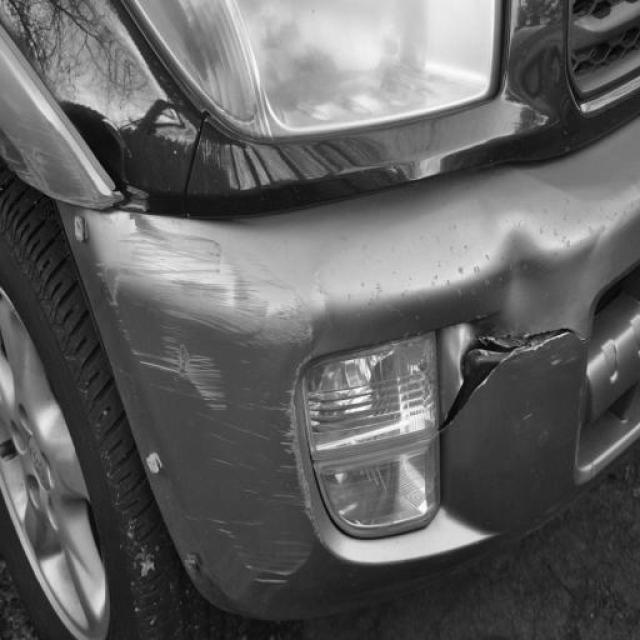dent: (476, 221, 566, 332)
scratch: (104, 212, 306, 344), (218, 353, 328, 582), (132, 343, 227, 411), (4, 143, 103, 208)
tear: (438, 326, 591, 432)
